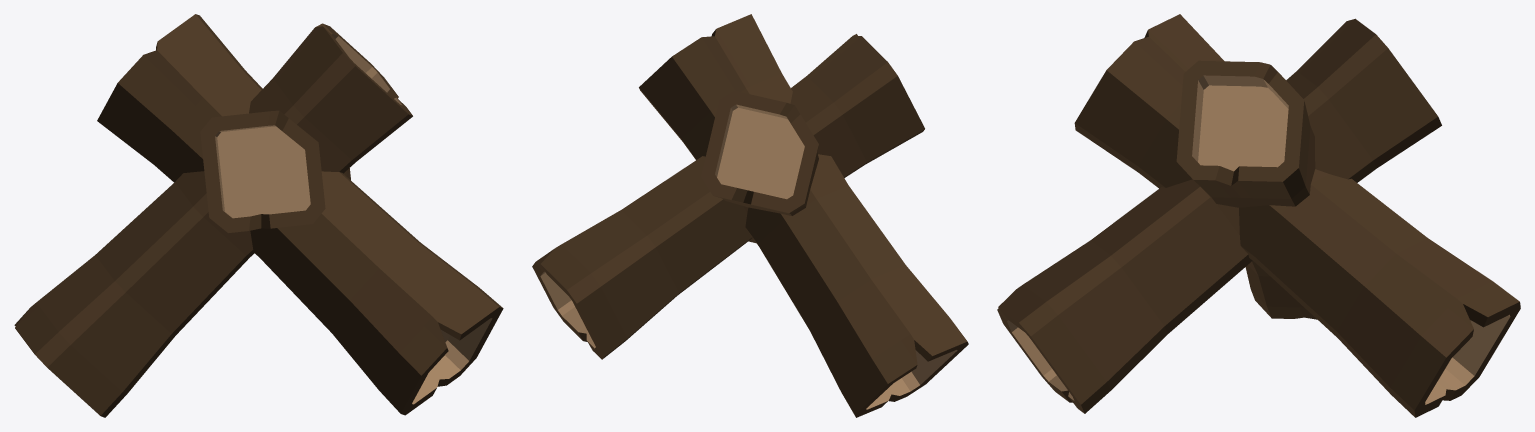
The model's file is Campfire.fbx.
The picture shows the model from 3 angles, left to right: view 1: azimuth 30°, elevation 25°; view 2: azimuth 150°, elevation 25°; view 3: azimuth 270°, elevation 25°; orthographic projection. The views are drawn at different scales.
Parts seen in each view (by area): view 1: Campfire; view 2: Campfire; view 3: Campfire.
Boxes of the visible parts, left/top/right/bottom form: Campfire: left=14, top=14, right=503, bottom=417; Campfire: left=532, top=14, right=968, bottom=417; Campfire: left=997, top=14, right=1520, bottom=417.
Size of the model in its own units: 47.82 by 39.94 by 51.67.
